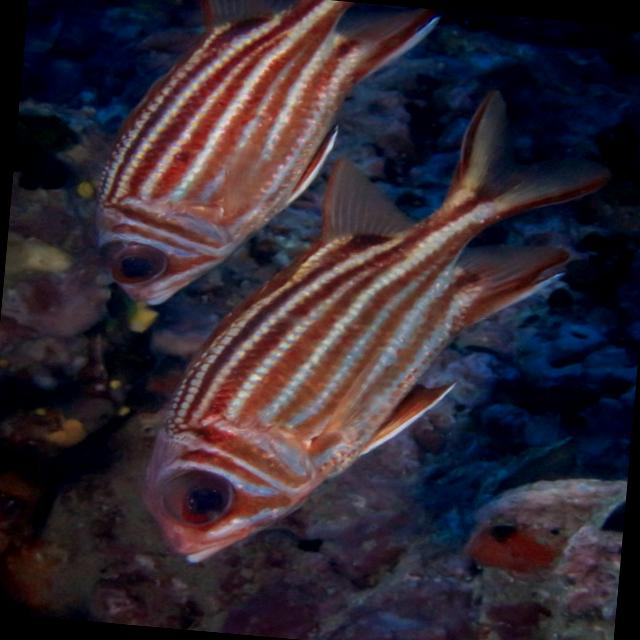Asker Baligi: (127, 75, 608, 608), (80, 0, 442, 330)
